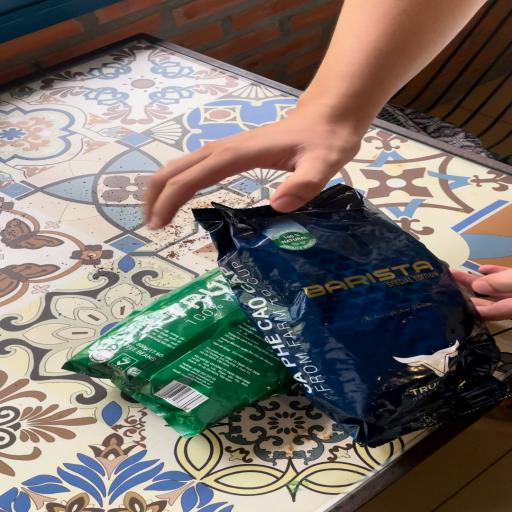cafe_hat: (192, 184, 508, 447)
cafe_xay: (63, 269, 294, 438)
